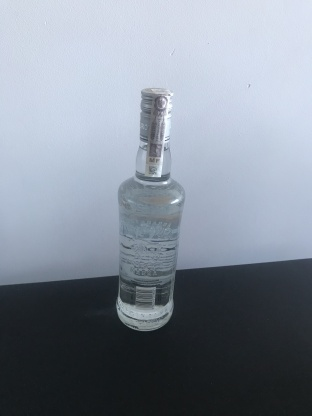nakretka: (136, 84, 175, 145)
